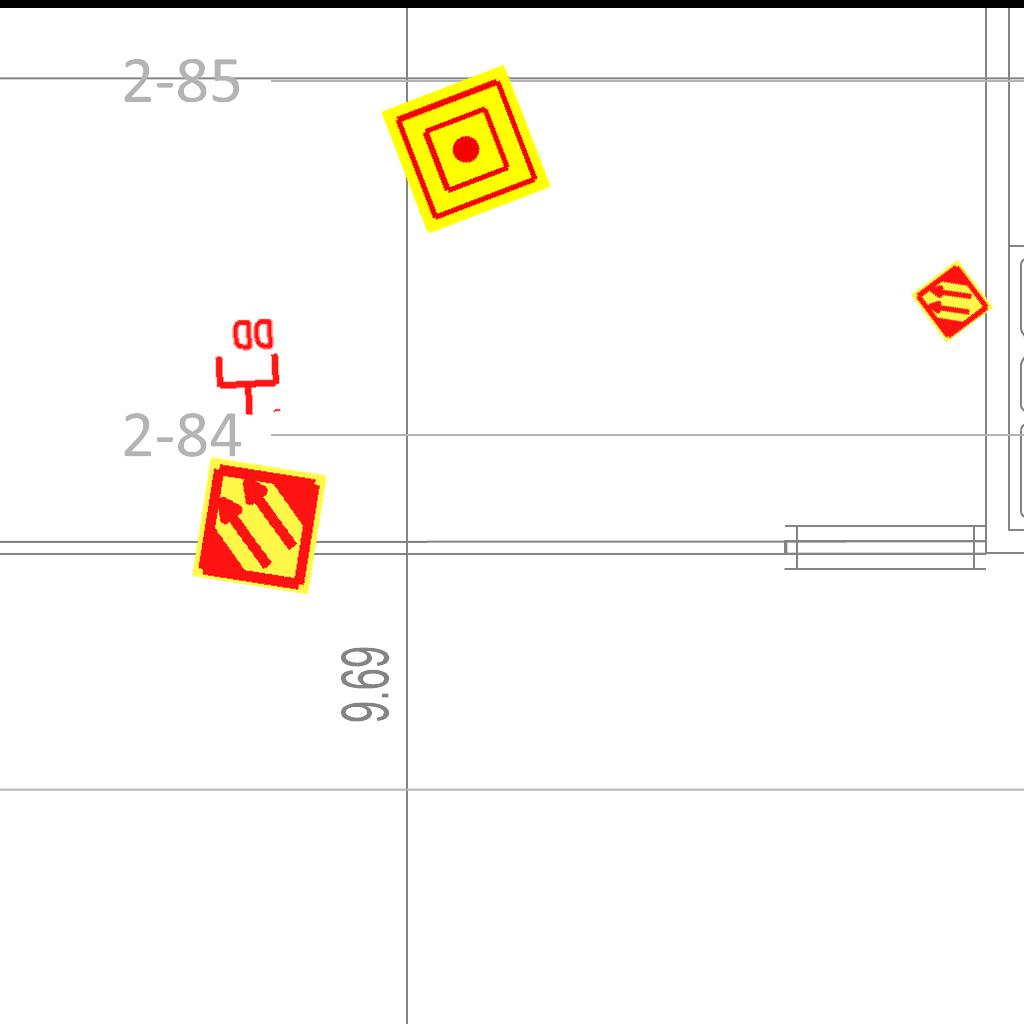ASR_Ansaugrauchmelder: (187, 453, 332, 598), (908, 257, 996, 345)
Datenanschluss_zweifach: (208, 313, 283, 420)
NAM-Nichtautomatischer_Melder: (380, 63, 552, 235)
